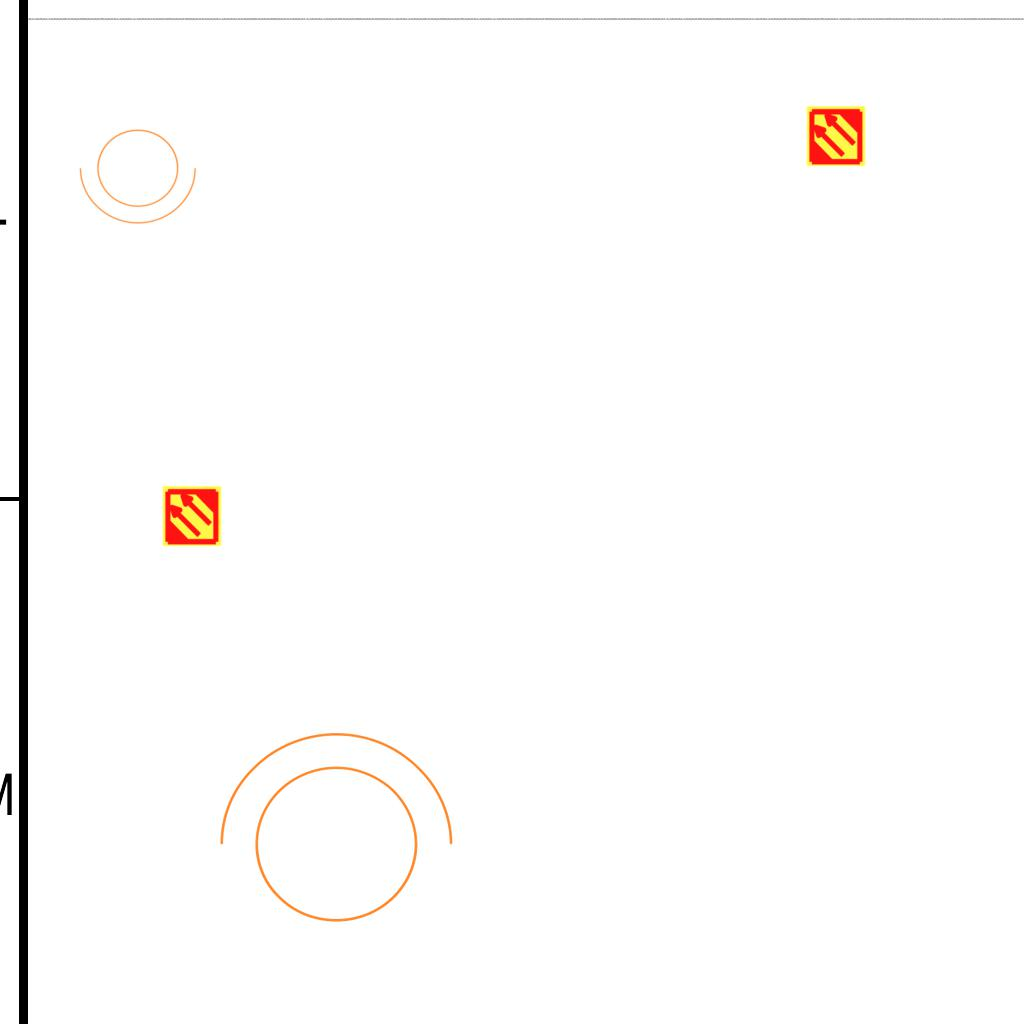ASR_Ansaugrauchmelder: (161, 485, 223, 547), (805, 105, 867, 167)
Scheinwerfer_fuer_Alarmbeleuchtung: (198, 722, 462, 947), (75, 117, 207, 229)
